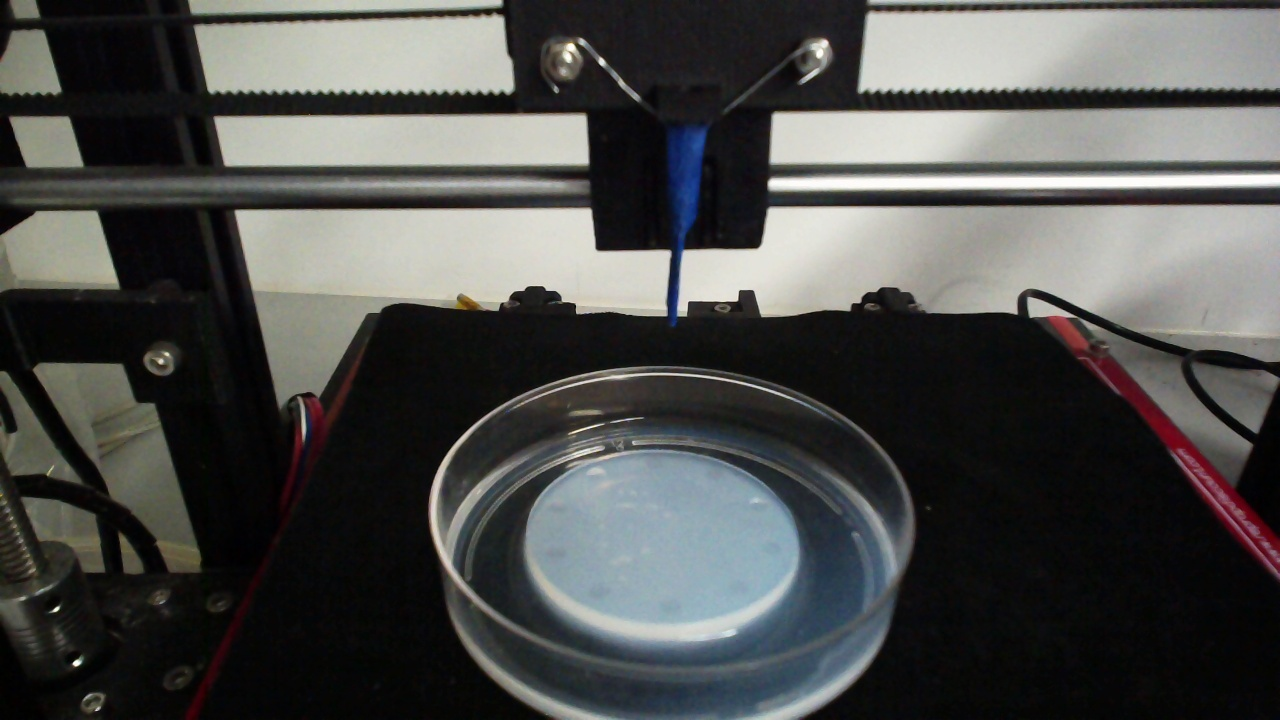groove: (658, 598, 685, 616), (725, 580, 750, 599), (643, 454, 664, 472), (548, 499, 571, 515), (543, 544, 566, 560), (703, 465, 726, 481), (749, 496, 769, 514), (585, 466, 607, 482), (761, 541, 783, 557), (588, 584, 610, 599)
needle: (667, 128, 706, 325)
